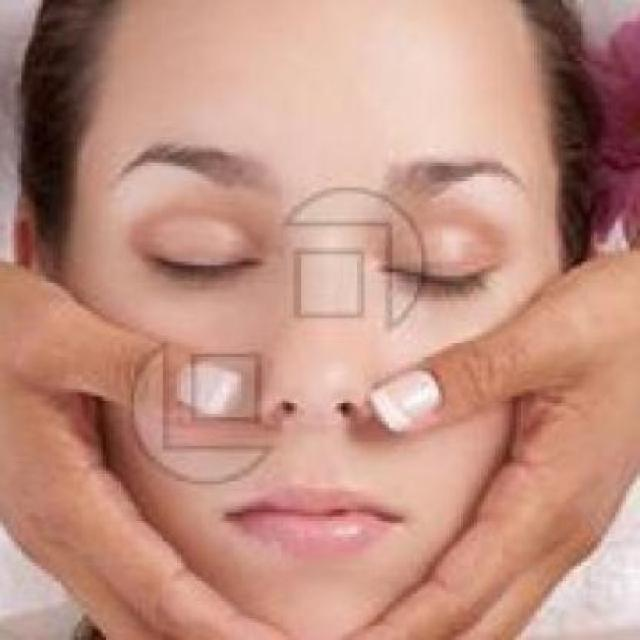drowsy: (374, 242, 492, 306), (138, 238, 262, 291)
